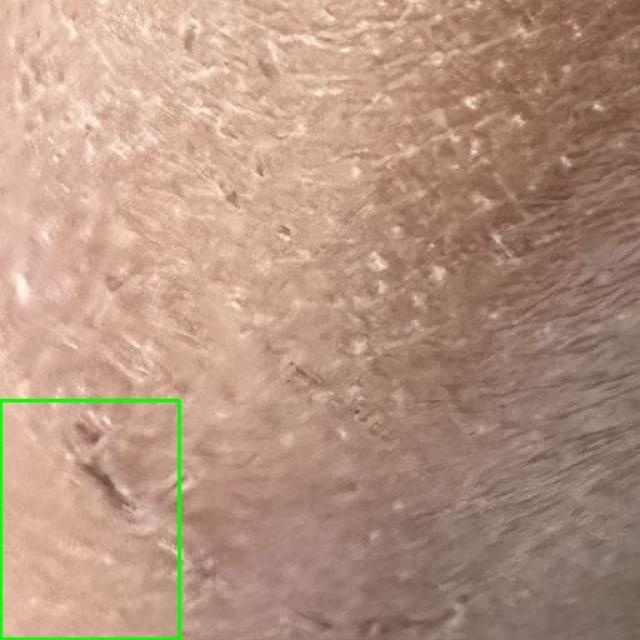Atopic Dermatitis: (0, 400, 179, 639)
